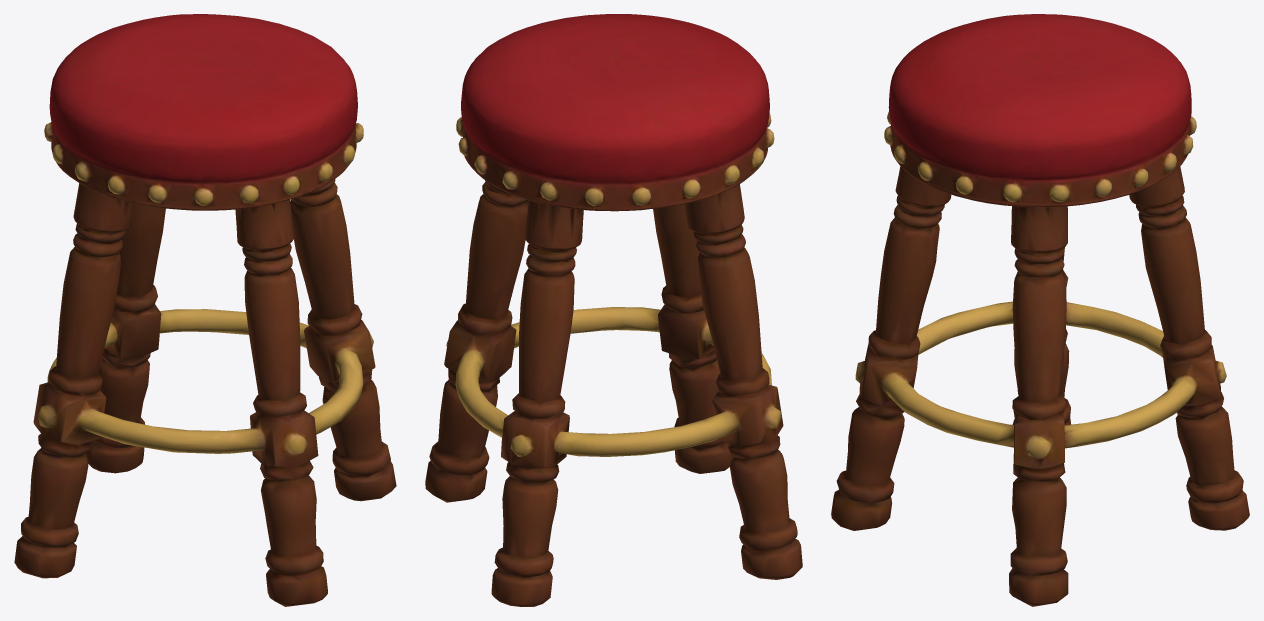
The model's file is stool.glb.
3 views of the same model, side by side, from view 1: azimuth 30°, elevation 25°; view 2: azimuth 150°, elevation 25°; view 3: azimuth 270°, elevation 25° (orthographic). The views are drawn at different scales.
Visible parts, largest first — view 1: tripo_node_3bfade89-c7b2-4bd1-b1c1-8da8c3696dfd; view 2: tripo_node_3bfade89-c7b2-4bd1-b1c1-8da8c3696dfd; view 3: tripo_node_3bfade89-c7b2-4bd1-b1c1-8da8c3696dfd.
Part boxes in pixels (box(x1,y1,x2,y2)): tripo_node_3bfade89-c7b2-4bd1-b1c1-8da8c3696dfd: box(14, 14, 396, 606); tripo_node_3bfade89-c7b2-4bd1-b1c1-8da8c3696dfd: box(425, 14, 802, 606); tripo_node_3bfade89-c7b2-4bd1-b1c1-8da8c3696dfd: box(831, 14, 1249, 606).
Size of the model in its own units: 0.8077 by 0.9798 by 0.804.
1 material, 1 textured.
